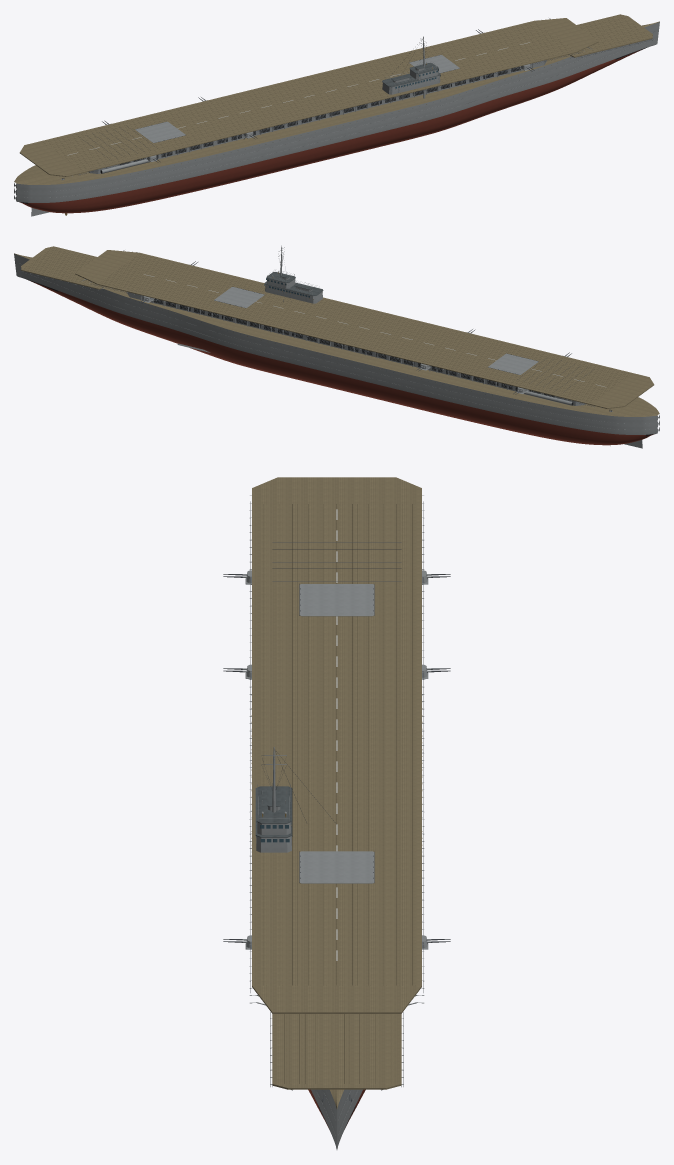
The model's file is furious.glb.
3 views of the same model, one above another, from view 1: azimuth 30°, elevation 25°; view 2: azimuth 150°, elevation 25°; view 3: azimuth 270°, elevation 25° (orthographic). The views are drawn at different scales.
Visible parts, largest first — view 1: Furious (as reconstructed); view 2: Furious (as reconstructed); view 3: Furious (as reconstructed).
Part boxes in pixels (x1=…): Furious (as reconstructed): x1=14, y1=14, x2=659, y2=216; Furious (as reconstructed): x1=14, y1=245, x2=659, y2=448; Furious (as reconstructed): x1=223, y1=477, x2=450, y2=1149.
Bounding box in the file's own units: 240 × 36.02 × 36.61.
9 materials, 8 textured.
